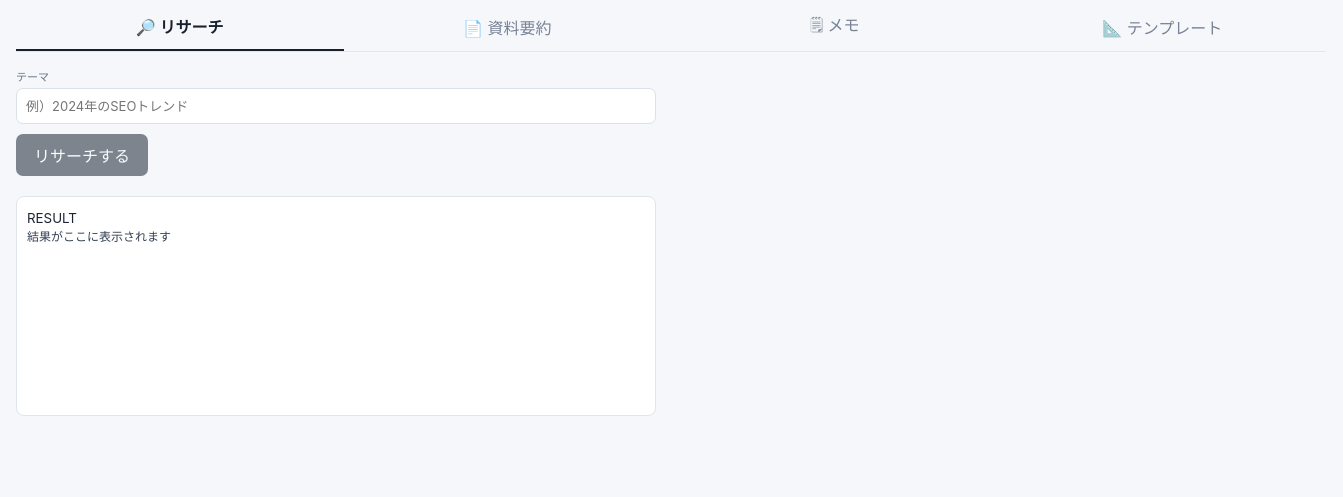
Test: MaterialsPanel › runs a research query and shows the AI result
The image size is (1343, 497).
In the field with placeholder "例）2024年のSEOトレンド": x=336, y=106 left=16, top=88, right=656, bottom=124, type "テーマA"
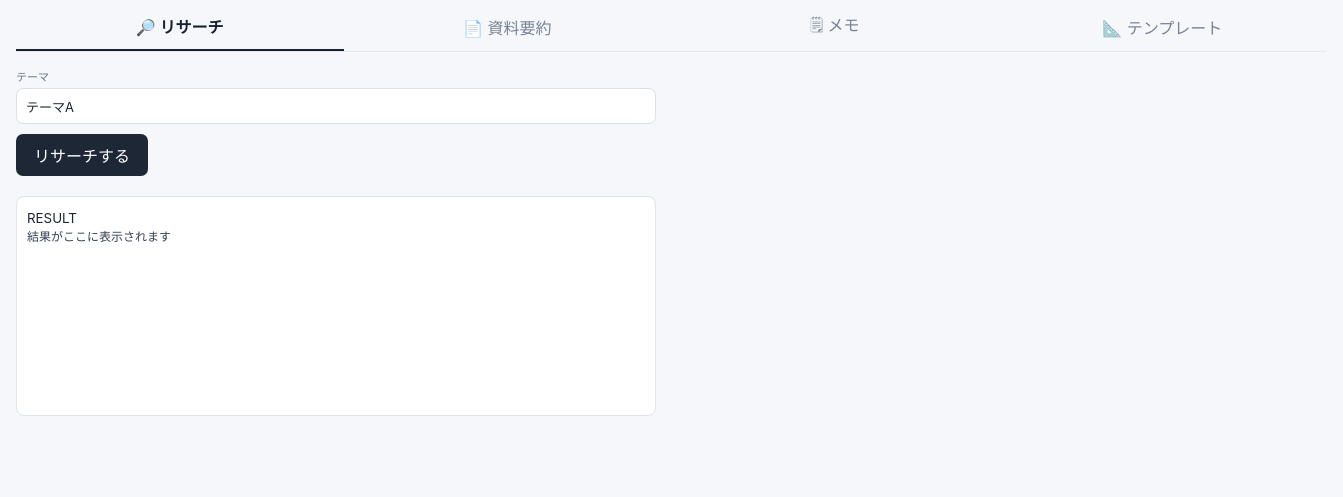
Click the button "リサーチする": x=82, y=155 left=16, top=134, right=148, bottom=176
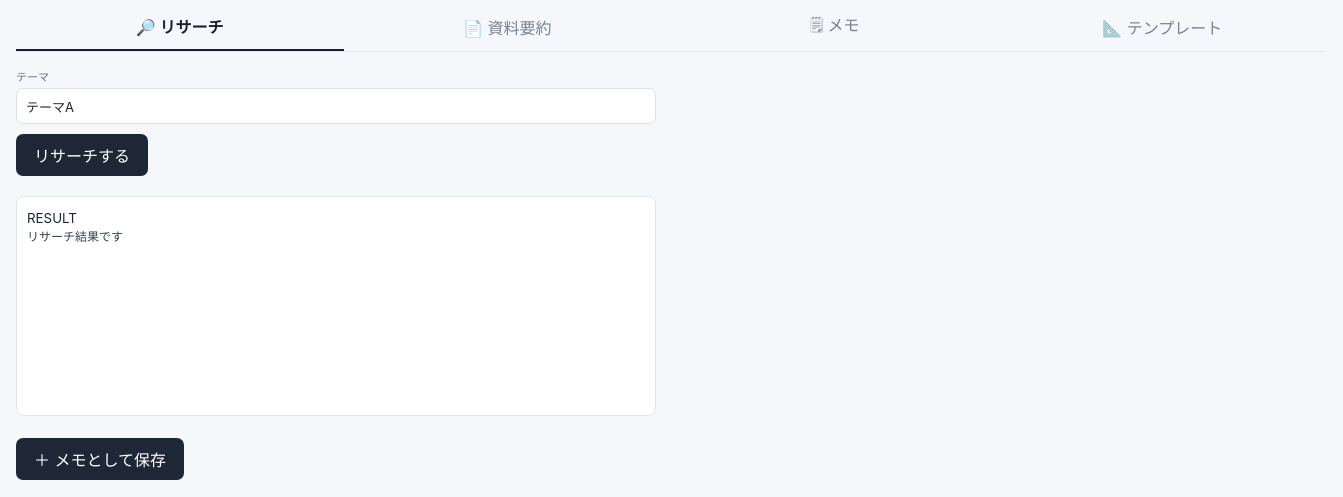
Check: the text "リサーチ結果です" is shown, box left=27, top=229, right=123, bottom=244
